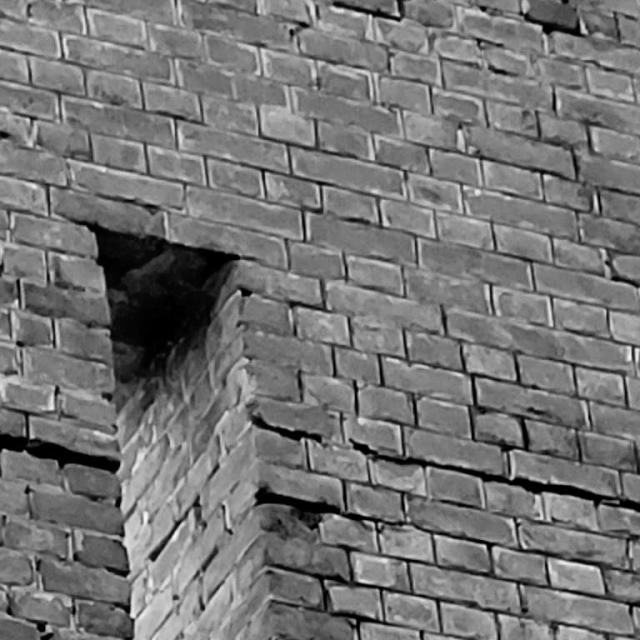crack: (254, 414, 640, 511), (1, 432, 118, 472), (252, 492, 380, 521)
